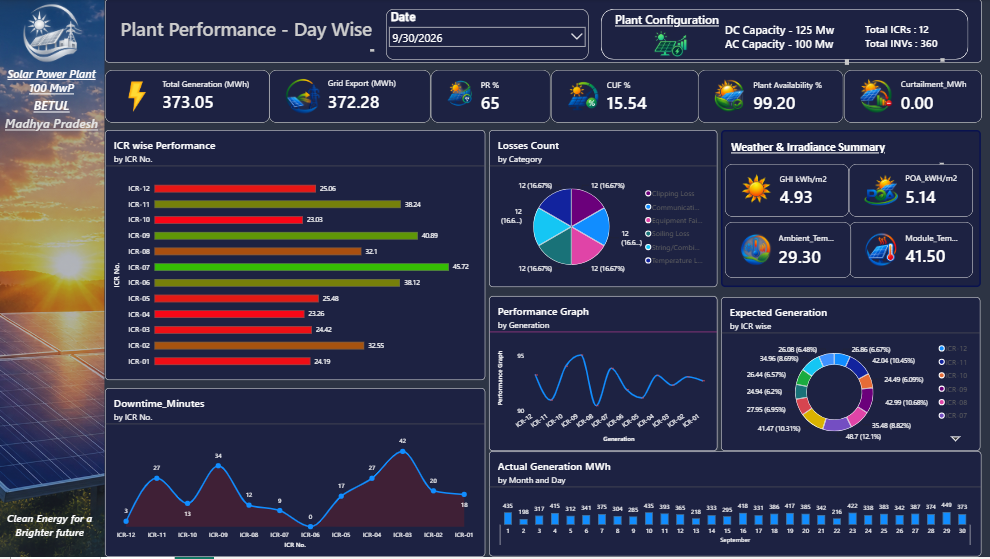

The page's visual inventory and layout, read from the dashboard file:
{"tool":"powerbi","page":{"name":"Home","canvas":[1920,1080],"ordinal":1},"visuals":[{"type":"image","box":[0,0,206.4,1080],"z":0},{"type":"textbox","box":[206.4,0,1697.1,123],"z":1000},{"type":"textbox","box":[1399.8,253.7,503.3,304.5],"z":2000},{"type":"cardVisual","fields":{"Data":["Daily_Plant.Total Generation(MWh)"]},"box":[206.4,137.6,319,102.2],"z":3000},{"type":"slicer","fields":{"Values":["Daily_Plant.Date"]},"box":[750.6,18.8,392,98],"z":4000},{"type":"cardVisual","fields":{"Data":["Sum(Daily_Plant.Avg_Module_Temp_C)"]},"box":[1647.1,431.6,239.8,108.4],"z":5000},{"type":"cardVisual","fields":{"Data":["Sum(Daily_Plant.CUF_pct_Approved)"]},"box":[1069.6,137.6,285.6,102.2],"z":6000},{"type":"cardVisual","fields":{"Data":["Sum(Daily_Plant.GTI_or_POA_kWh_m2_day)"]},"box":[1647.1,319,239.8,102.2],"z":7000},{"type":"cardVisual","fields":{"Data":["Sum(Daily_Plant.Grid_Export_MWh)"]},"box":[525.4,137.6,312.7,102.2],"z":8000},{"type":"cardVisual","fields":{"Data":["Sum(Daily_Plant.PR_pct_Approved)"]},"box":[838.1,137.6,231.4,102.2],"z":9000},{"type":"cardVisual","fields":{"Data":["Sum(Daily_Plant.Plant_Availability_pct)"]},"box":[1355.2,137.6,281.5,102.2],"z":10000},{"type":"cardVisual","fields":{"Data":["Sum(Daily_Plant.Avg_Ambient_Temp_C)"]},"box":[1407.3,431.6,243.9,108.4],"z":11000},{"type":"cardVisual","fields":{"Data":["Sum(Daily_Plant.GHI_kWh_m2_day)"]},"box":[1407.3,319,239.8,102.2],"z":12000},{"type":"clusteredBarChart","fields":{"Y":["Sum(Daily_ICR.Actual_Generation_MWh)"],"Category":["Daily_ICR.ICR_ID"]},"box":[206.4,254.4,736,483.7],"z":13000},{"type":"clusteredColumnChart","fields":{"Y":["Sum(Gen_poA_Graph.Actual_Generation_MWh)"],"Category":["Gen_poA_Graph.Date.Variation.Date Hierarchy.Month","Gen_poA_Graph.Date.Variation.Date Hierarchy.Day"]},"box":[950.7,875.7,952.8,204.3],"z":14000},{"type":"lineChart","fields":{"Category":["Daily_ICR.ICR_ID"],"Y":["Sum(Daily_ICR.Performance_pct_if_available)"]},"box":[950.7,575.4,442,300.2],"z":15000},{"type":"cardVisual","fields":{"Data":["Sum(Daily_ICR.Curtailment_MWh)"]},"box":[1636.7,137.6,266.9,102.2],"z":16000},{"type":"areaChart","fields":{"Category":["Daily_ICR.ICR_ID"],"Y":["Sum(Daily_ICR.Downtime_Minutes)"]},"box":[206.4,752.7,736,327.3],"z":17000},{"type":"textbox","title":"Plant Performance - Day Wise","box":[231.4,33.4,496.2,68.8],"z":18000},{"type":"textbox","title":"Weather & Irradiance Summary","box":[1418.9,272.8,412.3,46.5],"z":19000},{"type":"shape","box":[1167.6,18.8,711,98],"z":20000},{"type":"textbox","title":"Plant Configuration  ","box":[1194.7,25,667.2,81.3],"z":21000},{"type":"textbox","title":"DC Capacity - 125 Mw AC Capacity - 100 Mw ","box":[1407.3,43.8,239.8,83.4],"z":22000},{"type":"textbox","title":"Total ICRs       :       12  Total INVs : 360","box":[1678.4,43.8,154.3,77.1],"z":23000},{"type":"donutChart","fields":{"Category":["Daily_ICR.ICR_ID"],"Y":["Sum(Daily_ICR.Expected_Generation_MWh)"]},"box":[1399,577.5,502.5,298.1],"z":24000},{"type":"pieChart","fields":{"Y":["CountNonNull(Daily_ICR.ICR_ID)"],"Category":["Category_Summary.Loss Category"]},"box":[950.7,254.4,442,304.4],"z":25000},{"type":"image","box":[1194.7,43.8,212.7,85.5],"z":26000},{"type":"image","box":[0,6.3,206.4,123],"z":27000},{"type":"textbox","title":"Solar Power Plant 100 MwP ","box":[8.3,129.3,191.8,60.5],"z":28000},{"type":"textbox","title":"BETUL","box":[8.3,189.7,191.8,35.4],"z":29000},{"type":"textbox","title":"Madhya Pradesh","box":[8.3,225.2,191.8,35.4],"z":30000},{"type":"textbox","title":"Clean Energy for a Brighter future","box":[0,990.3,200.2,89.7],"z":31000}]}

Visuals, with their boxes in screenshot pixels (x1, y1, x2, y2), scaled from the page's 1920x1080 canvas onto the 990x559 screenshot:
image: box=[0, 0, 106, 558]
textbox: box=[106, 0, 981, 64]
textbox: box=[722, 131, 981, 289]
cardVisual - Daily_Plant.Total Generation(MWh): box=[106, 71, 271, 124]
slicer - Daily_Plant.Date: box=[387, 10, 589, 60]
cardVisual - Sum(Daily_Plant.Avg_Module_Temp_C): box=[849, 223, 973, 280]
cardVisual - Sum(Daily_Plant.CUF_pct_Approved): box=[552, 71, 699, 124]
cardVisual - Sum(Daily_Plant.GTI_or_POA_kWh_m2_day): box=[849, 165, 973, 218]
cardVisual - Sum(Daily_Plant.Grid_Export_MWh): box=[271, 71, 432, 124]
cardVisual - Sum(Daily_Plant.PR_pct_Approved): box=[432, 71, 551, 124]
cardVisual - Sum(Daily_Plant.Plant_Availability_pct): box=[699, 71, 844, 124]
cardVisual - Sum(Daily_Plant.Avg_Ambient_Temp_C): box=[726, 223, 851, 280]
cardVisual - Sum(Daily_Plant.GHI_kWh_m2_day): box=[726, 165, 849, 218]
clusteredBarChart - Sum(Daily_ICR.Actual_Generation_MWh) x Daily_ICR.ICR_ID: box=[106, 132, 486, 382]
clusteredColumnChart - Sum(Gen_poA_Graph.Actual_Generation_MWh) x Gen_poA_Graph.Date.Variation.Date Hierarchy.Month: box=[490, 453, 981, 558]
lineChart - Daily_ICR.ICR_ID x Sum(Daily_ICR.Performance_pct_if_available): box=[490, 298, 718, 453]
cardVisual - Sum(Daily_ICR.Curtailment_MWh): box=[844, 71, 982, 124]
areaChart - Daily_ICR.ICR_ID x Sum(Daily_ICR.Downtime_Minutes): box=[106, 390, 486, 558]
"Plant Performance - Day Wise" textbox: box=[119, 17, 375, 53]
"Weather & Irradiance Summary" textbox: box=[732, 141, 944, 165]
shape: box=[602, 10, 969, 60]
"Plant Configuration  " textbox: box=[616, 13, 960, 55]
"DC Capacity - 125 Mw AC Capacity - 100 Mw " textbox: box=[726, 23, 849, 66]
"Total ICRs       :       12  Total INVs : 360" textbox: box=[865, 23, 945, 63]
donutChart - Daily_ICR.ICR_ID x Sum(Daily_ICR.Expected_Generation_MWh): box=[721, 299, 980, 453]
pieChart - CountNonNull(Daily_ICR.ICR_ID) x Category_Summary.Loss Category: box=[490, 132, 718, 289]
image: box=[616, 23, 726, 67]
image: box=[0, 3, 106, 67]
"Solar Power Plant 100 MwP " textbox: box=[4, 67, 103, 98]
"BETUL" textbox: box=[4, 98, 103, 117]
"Madhya Pradesh" textbox: box=[4, 117, 103, 135]
"Clean Energy for a Brighter future" textbox: box=[0, 513, 103, 558]
